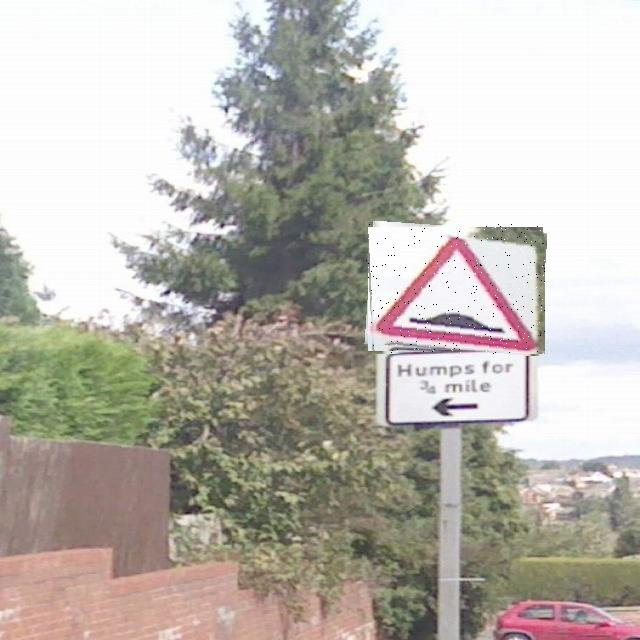hump: (366, 224, 545, 354)
